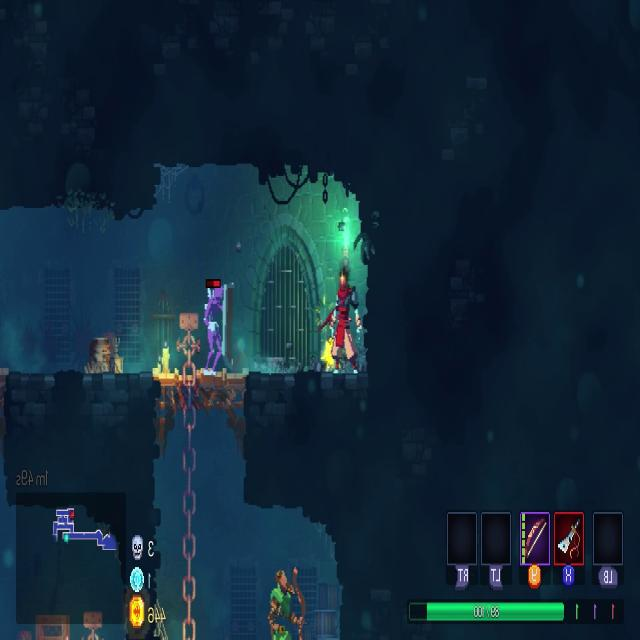agents: (329, 272, 359, 379)
enemy_archer: (269, 566, 304, 640)
enemy_purple_shield: (203, 280, 235, 378)
wood_floor: (155, 372, 247, 416)
